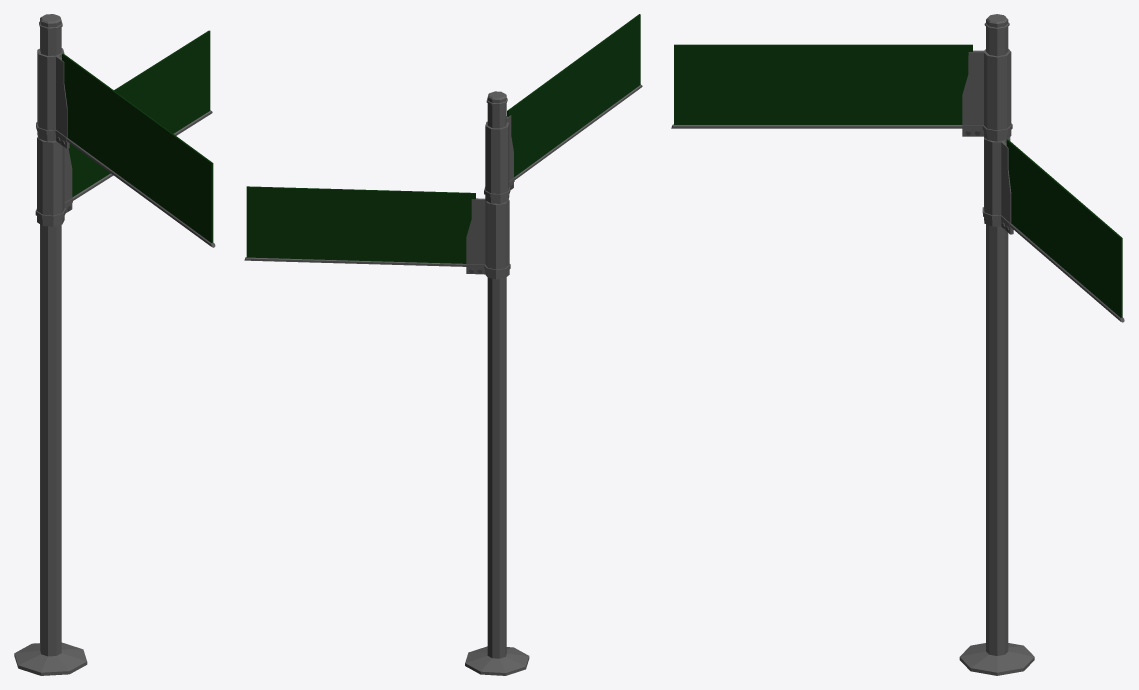
Rendered from RoadSignDouble.obj.
3 renders of one model, left to right at view 1: azimuth 30°, elevation 25°; view 2: azimuth 150°, elevation 25°; view 3: azimuth 270°, elevation 25°, orthographic. The views are drawn at different scales.
Visible parts, largest first — view 1: Sign2_Cylinder.001, Pole_Cylinder, Sign1_Cylinder.003; view 2: Sign1_Cylinder.003, Sign2_Cylinder.001, Pole_Cylinder; view 3: Sign2_Cylinder.001, Pole_Cylinder, Sign1_Cylinder.003.
Boxes of the visible parts, left/top/right/bottom form: Sign2_Cylinder.001: left=36, top=48, right=215, bottom=247; Pole_Cylinder: left=14, top=14, right=87, bottom=675; Sign1_Cylinder.003: left=35, top=30, right=212, bottom=226; Sign1_Cylinder.003: left=244, top=186, right=510, bottom=279; Sign2_Cylinder.001: left=484, top=14, right=642, bottom=203; Pole_Cylinder: left=465, top=91, right=529, bottom=675; Sign2_Cylinder.001: left=671, top=44, right=1012, bottom=141; Pole_Cylinder: left=959, top=14, right=1034, bottom=675; Sign1_Cylinder.003: left=982, top=137, right=1124, bottom=322.
Bounding box in the file's own units: 1.31 × 3.15 × 2.01.
